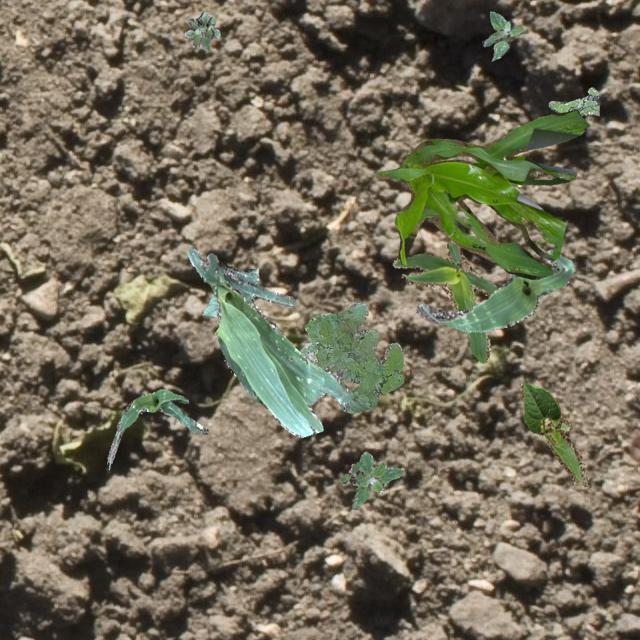crop: (376, 109, 588, 278), (187, 248, 350, 437), (414, 248, 574, 330), (392, 242, 498, 362), (106, 388, 208, 463), (518, 379, 588, 486), (201, 268, 257, 316)
weed: (298, 300, 402, 412), (340, 451, 402, 508), (482, 10, 522, 60), (548, 86, 598, 115), (184, 10, 218, 50)
